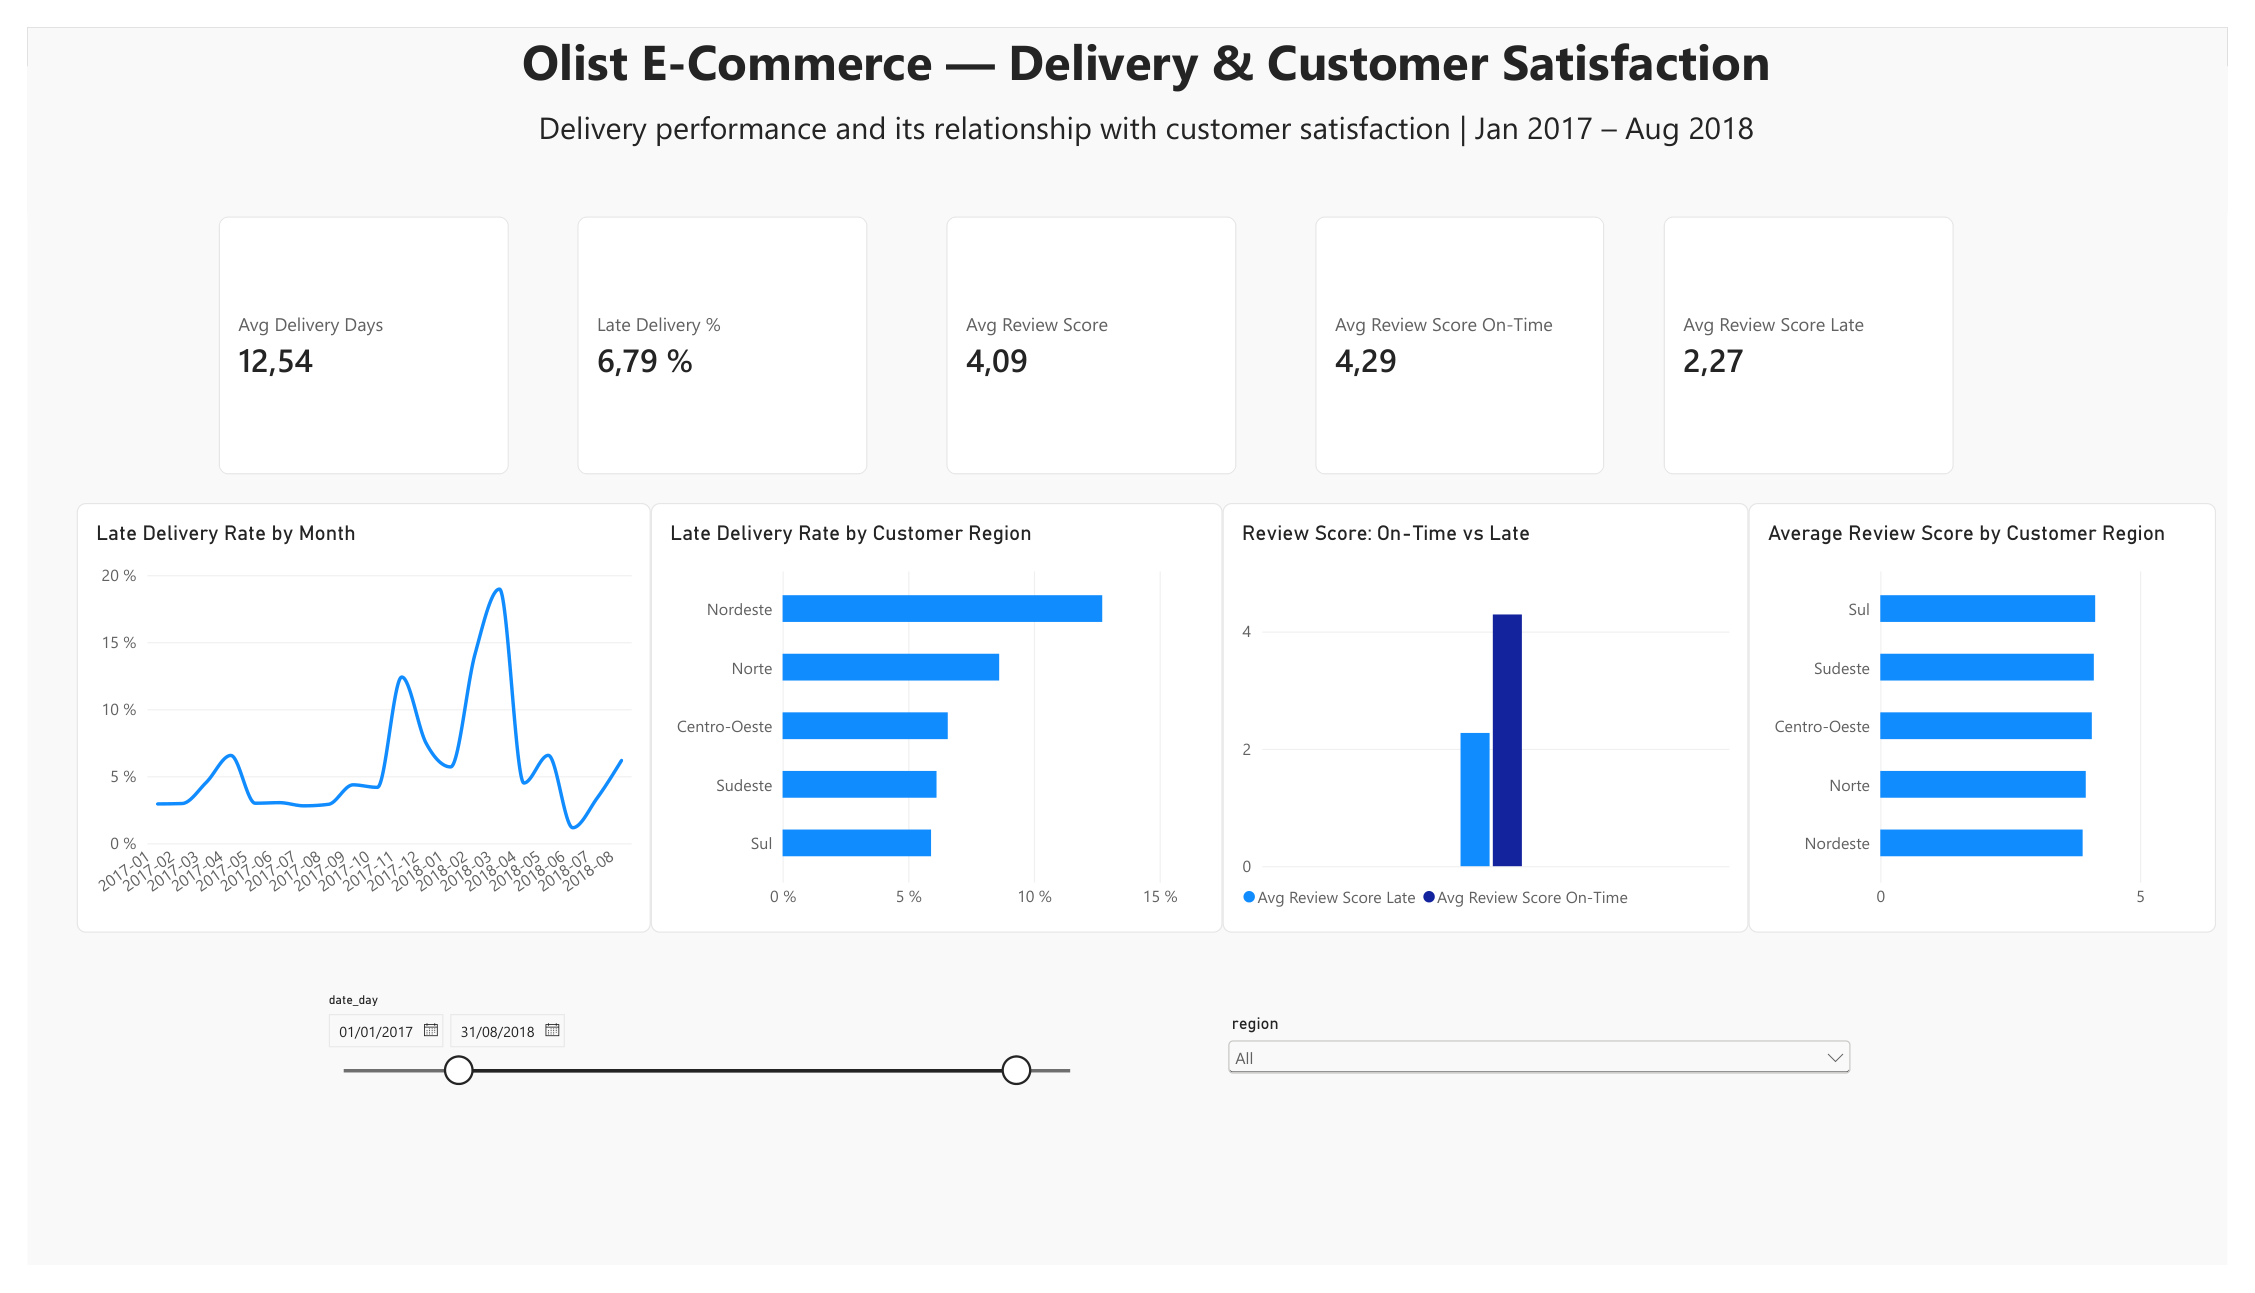

Layout of this report page (visuals, bound fields, positions):
{"tool":"powerbi","page":{"name":"Delivery & Customer Satisfaction","canvas":[1920,1080],"ordinal":5},"visuals":[{"type":"cardVisual","fields":{"Data":["_Measures.Avg Delivery Days"]},"box":[167.4,165.2,252.7,224.8],"z":0},{"type":"cardVisual","fields":{"Data":["_Measures.Late Delivery %"]},"box":[479.9,165.2,252.7,224.8],"z":1000},{"type":"cardVisual","fields":{"Data":["_Measures.Avg Review Score"]},"box":[801.8,165.2,252.7,224.8],"z":2000},{"type":"cardVisual","fields":{"Data":["_Measures.Avg Review Score Late"]},"box":[1428.3,165.2,252.7,224.8],"z":3000},{"type":"cardVisual","fields":{"Data":["_Measures.Avg Review Score On-Time"]},"box":[1123.7,165.2,252.7,224.8],"z":4000},{"type":"lineChart","title":"Late Delivery Rate by Month","fields":{"Category":["analytics dim_date.year_month"],"Y":["_Measures.Late Delivery %"]},"box":[42.6,415,501.4,375.1],"z":5000},{"type":"clusteredBarChart","title":"Late Delivery Rate by Customer Region","fields":{"Category":["analytics dim_geography.region"],"Y":["_Measures.Late Delivery %"]},"box":[544,415,498.8,375.1],"z":6000},{"type":"clusteredColumnChart","title":"Review Score: On-Time vs Late","fields":{"Y":["_Measures.Avg Review Score Late","_Measures.Avg Review Score On-Time"]},"box":[1042.8,415,458.9,375.1],"z":7000},{"type":"clusteredBarChart","title":"Average Review Score by Customer Region","fields":{"Category":["analytics dim_geography.region"],"Y":["_Measures.Avg Review Score"]},"box":[1501.6,415,408.3,375.1],"z":8000},{"type":"slicer","fields":{"Values":["analytics dim_date.date_day"]},"box":[255.4,841.9,673,118.4],"z":9000},{"type":"slicer","fields":{"Values":["analytics dim_geography.region"]},"box":[1042.8,860.5,553.3,82.5],"z":10000},{"type":"textbox","box":[42.6,0,1867.4,77.1],"z":11000},{"type":"textbox","box":[42.6,67.8,1867.4,97.1],"z":11001}]}

Visuals, with their boxes in screenshot pixels (x1, y1, x2, y2), scaled from the page's 1920x1080 canvas onto the 2255x1293 screenshot:
cardVisual - _Measures.Avg Delivery Days: locate(197, 198, 493, 467)
cardVisual - _Measures.Late Delivery %: locate(564, 198, 860, 467)
cardVisual - _Measures.Avg Review Score: locate(942, 198, 1238, 467)
cardVisual - _Measures.Avg Review Score Late: locate(1678, 198, 1974, 467)
cardVisual - _Measures.Avg Review Score On-Time: locate(1320, 198, 1617, 467)
"Late Delivery Rate by Month" lineChart: locate(50, 497, 639, 946)
"Late Delivery Rate by Customer Region" clusteredBarChart: locate(639, 497, 1225, 946)
"Review Score: On-Time vs Late" clusteredColumnChart: locate(1225, 497, 1764, 946)
"Average Review Score by Customer Region" clusteredBarChart: locate(1764, 497, 2243, 946)
slicer - analytics dim_date.date_day: locate(300, 1008, 1090, 1150)
slicer - analytics dim_geography.region: locate(1225, 1030, 1875, 1129)
textbox: locate(50, 0, 2243, 92)
textbox: locate(50, 81, 2243, 197)
